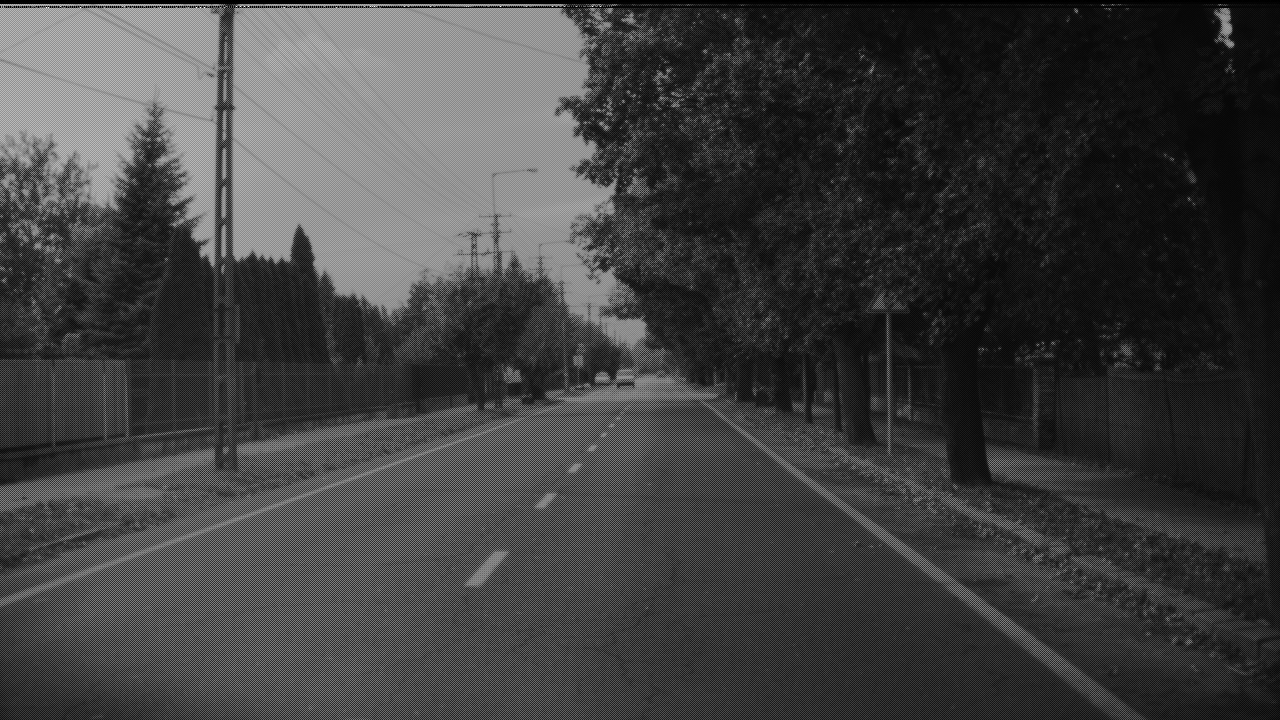pole: (1046, 1, 1066, 462)
